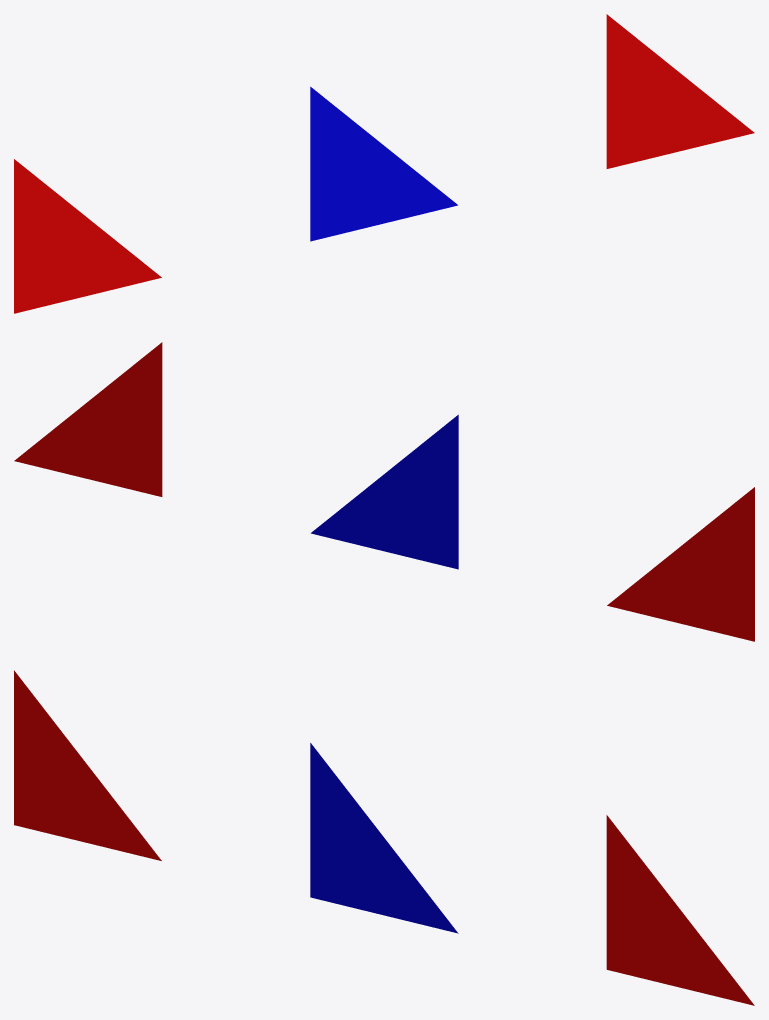
File: shared_materials.gltf
The picture shows the model from 3 angles, top to bottom: view 1: azimuth 30°, elevation 25°; view 2: azimuth 150°, elevation 25°; view 3: azimuth 330°, elevation 25°; orthographic projection.
Size of the model in its own units: 5 by 1 by 0.
Materials: 3 (2 with a texture image).
